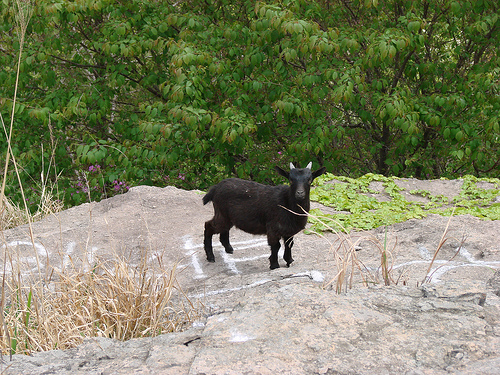goat: (204, 162, 314, 268)
